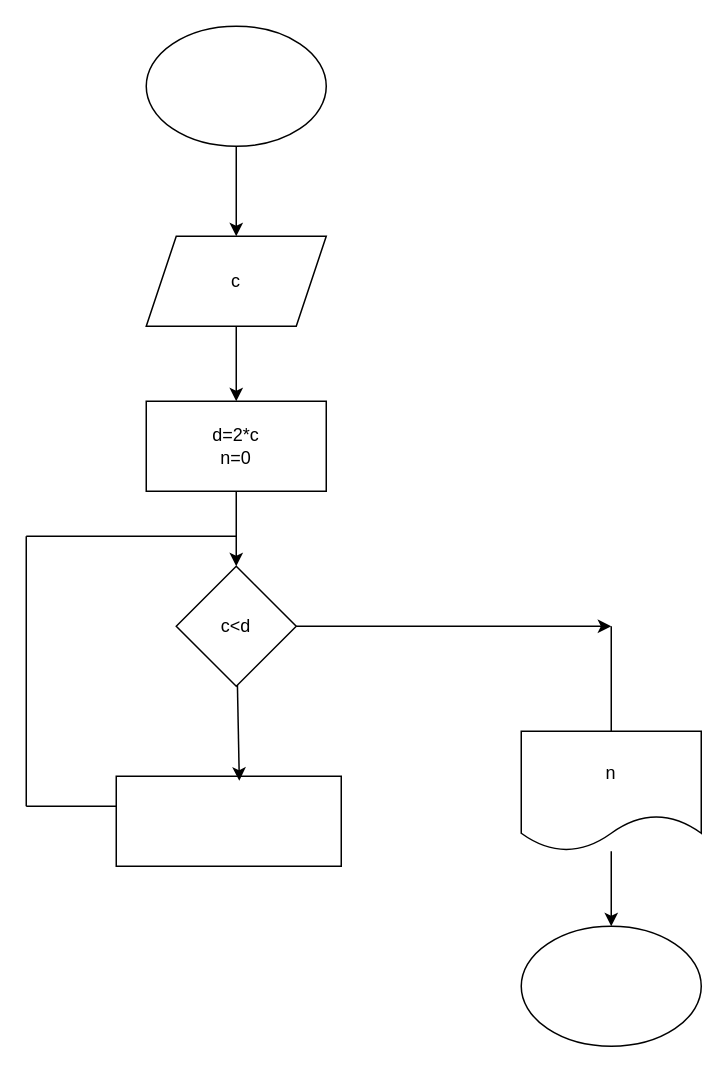
Image size: 728x1073. Some labels were removed from this diagram. The box of each missing label's shape, as (x1, y1, x2, y2) in pixels:
c=c+0.05+c n=n+1: (115, 775, 341, 866)
inicio: (145, 25, 326, 146)
